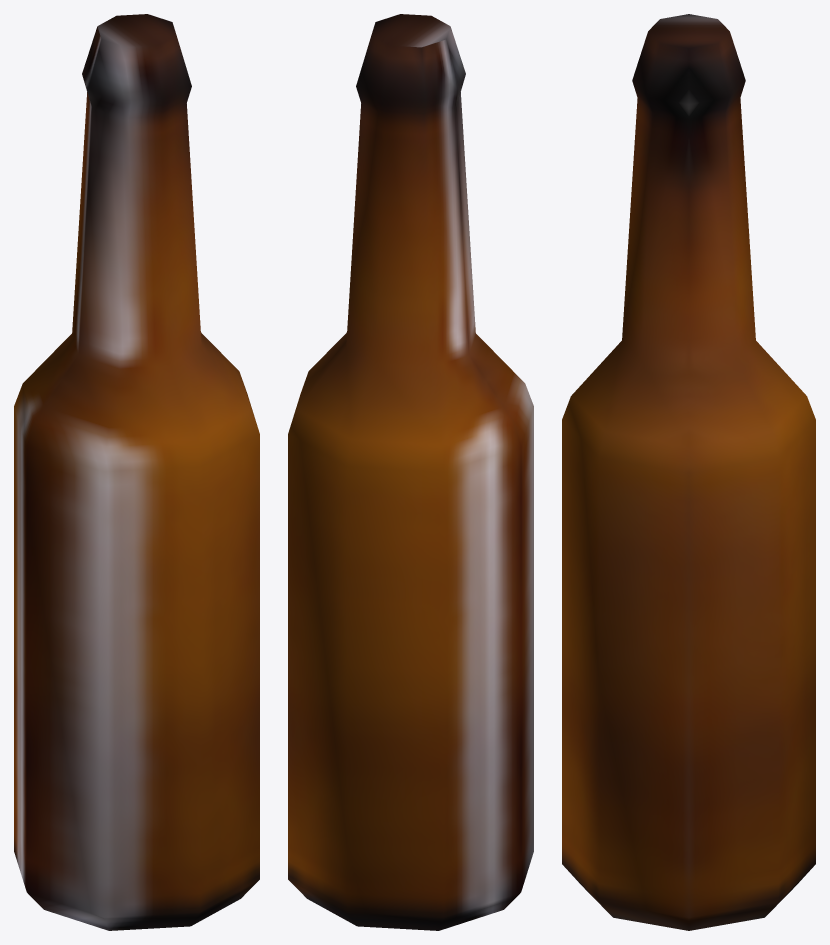
Rendered from bottle.fbx.
3 views of the same model, side by side, from view 1: azimuth 30°, elevation 25°; view 2: azimuth 150°, elevation 25°; view 3: azimuth 270°, elevation 25° (orthographic).
Parts seen in each view (by area): view 1: Circle.017; view 2: Circle.017; view 3: Circle.017.
Part boxes in pixels (box(x1,y1,x2,y2)): Circle.017: box(14, 14, 259, 930); Circle.017: box(288, 14, 533, 930); Circle.017: box(562, 14, 815, 930).
Size of the model in its own units: 15.03 by 55.79 by 15.03.
1 material, 1 textured.
